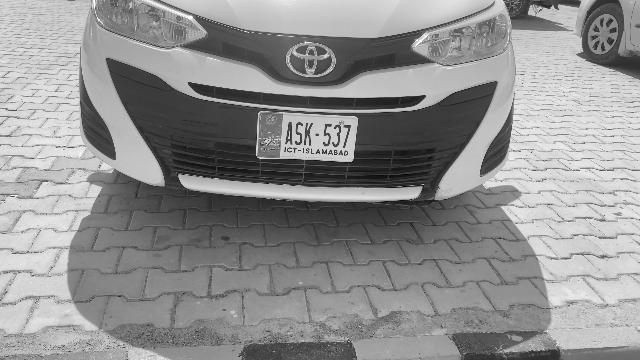Number: (282, 122, 352, 150)
